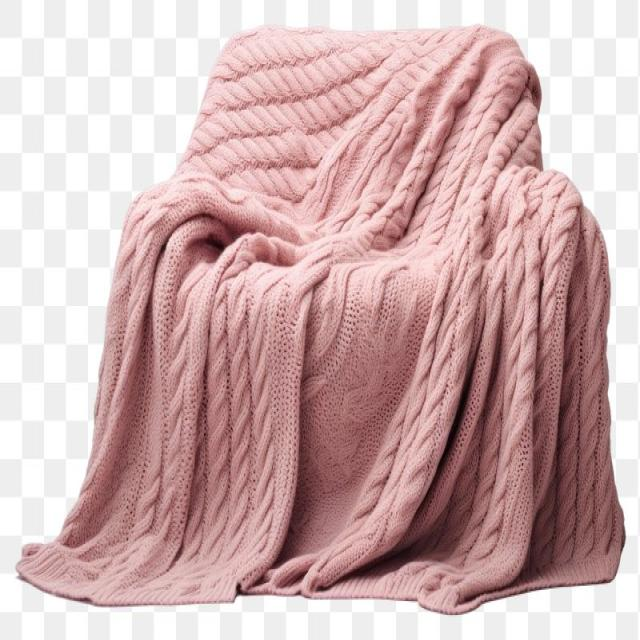blanket: (19, 27, 626, 614)
